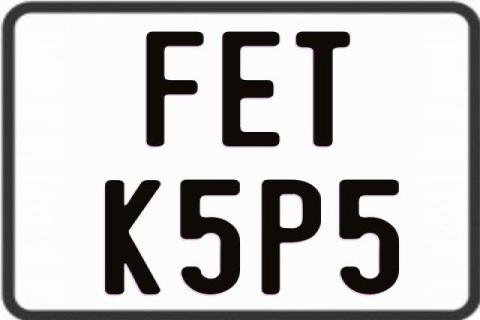0: (178, 178, 242, 298), (336, 178, 398, 298)
E: (219, 30, 277, 146)
F: (143, 31, 203, 150)
K: (105, 178, 163, 296)
P: (262, 179, 326, 295)
T: (296, 31, 350, 151)
